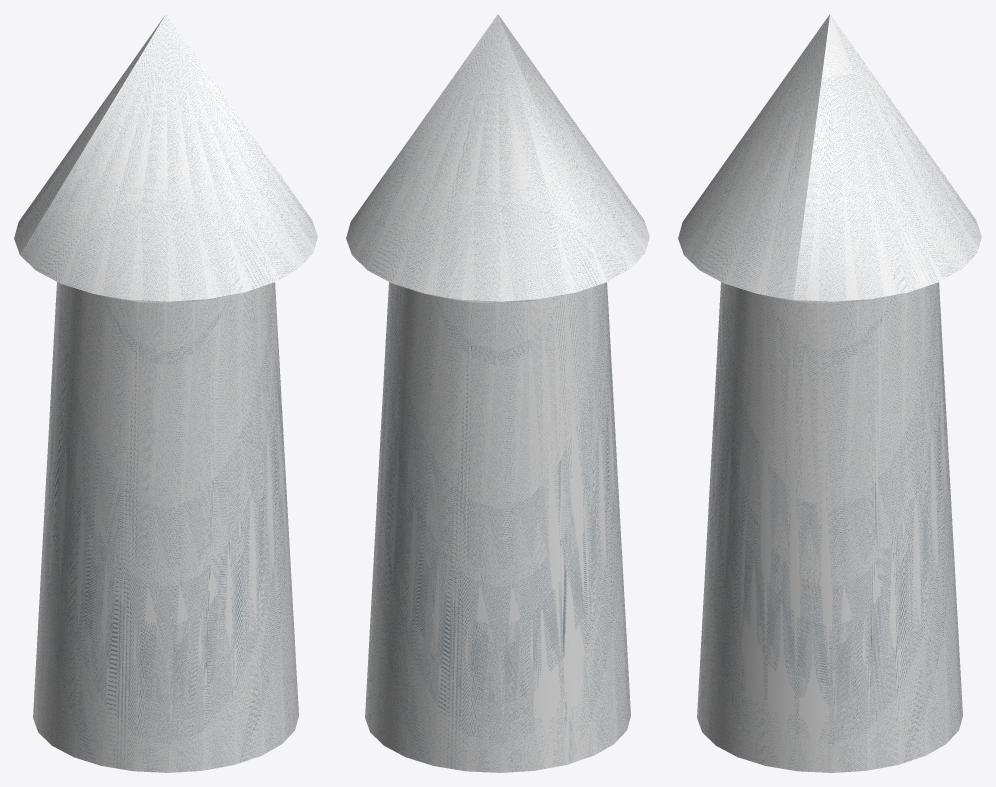
File: Arrow.fbx
The picture shows the model from 3 angles, left to right: view 1: azimuth 30°, elevation 25°; view 2: azimuth 150°, elevation 25°; view 3: azimuth 270°, elevation 25°; orthographic projection.
Visible parts, largest first — view 1: Model; view 2: Model; view 3: Model.
Part boxes in pixels (bbox=[...]): Model: bbox=[14, 14, 317, 772]; Model: bbox=[346, 14, 649, 772]; Model: bbox=[678, 14, 981, 772].
Bounding box in the file's own units: 0.9364 × 2.39 × 0.9364.
